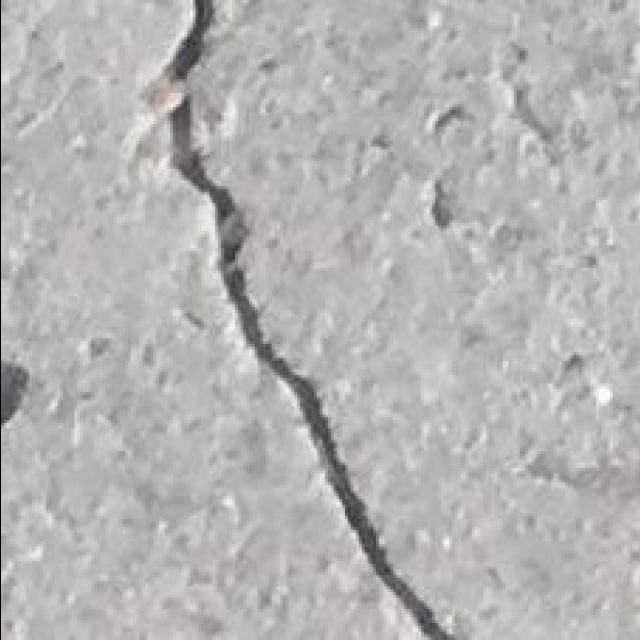Crack: (128, 0, 458, 638)
